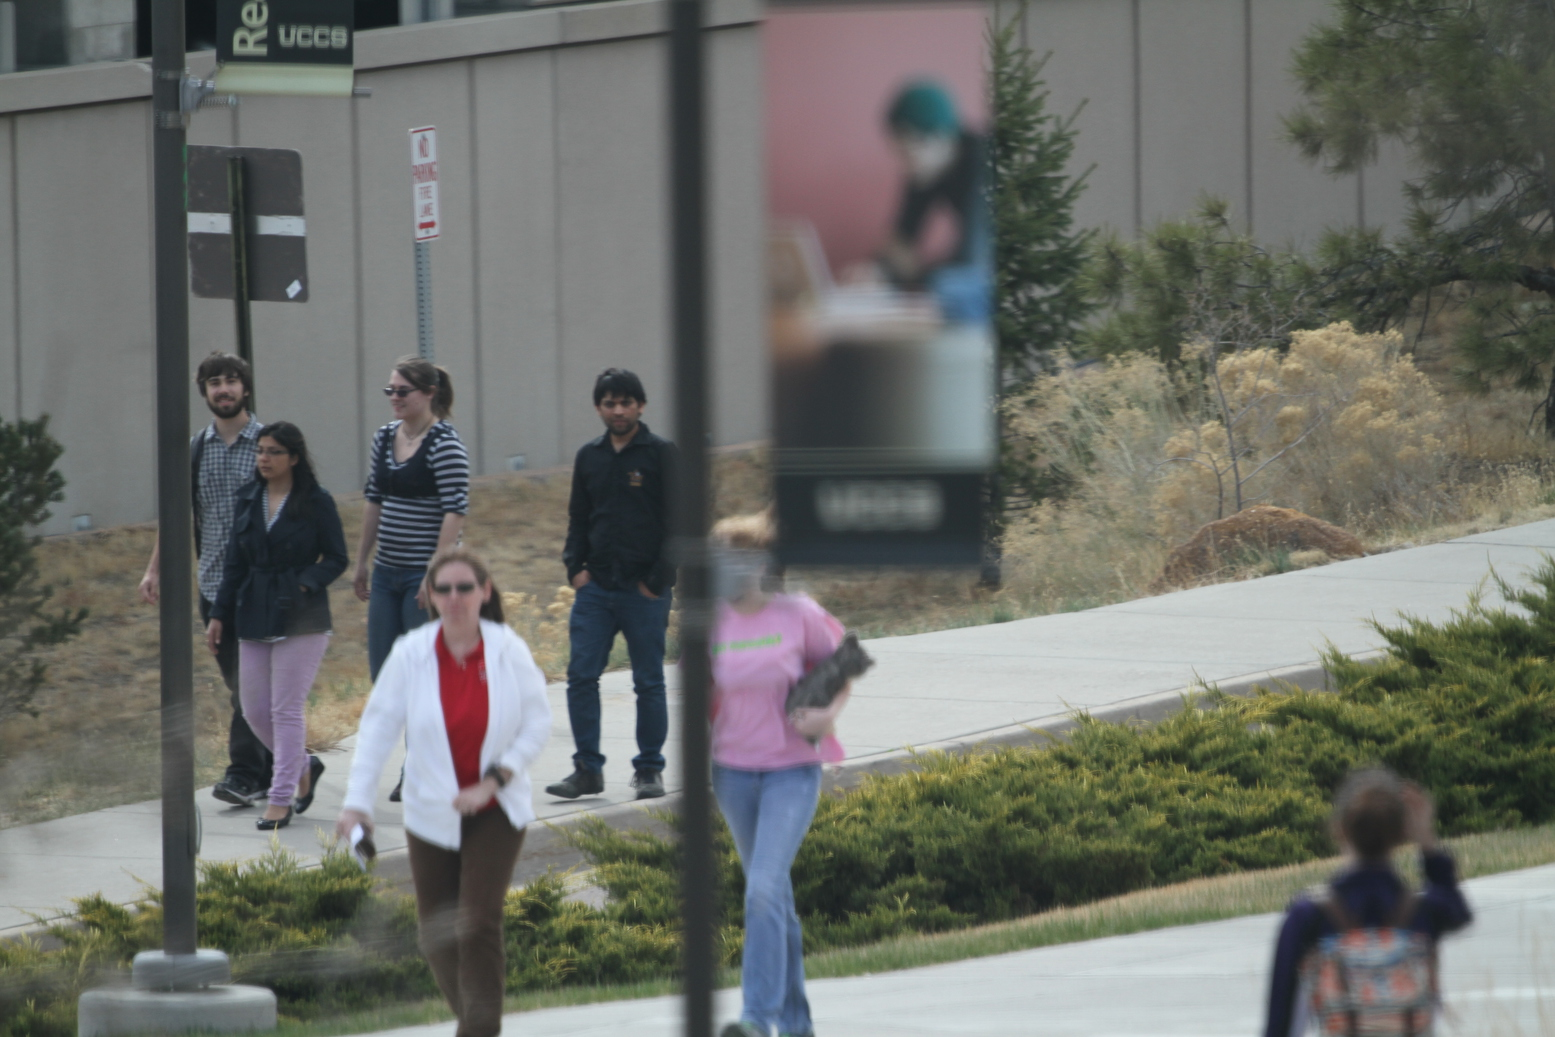face: (431, 570, 477, 623), (253, 437, 296, 481), (386, 374, 424, 420), (599, 392, 638, 432), (205, 371, 239, 409)
